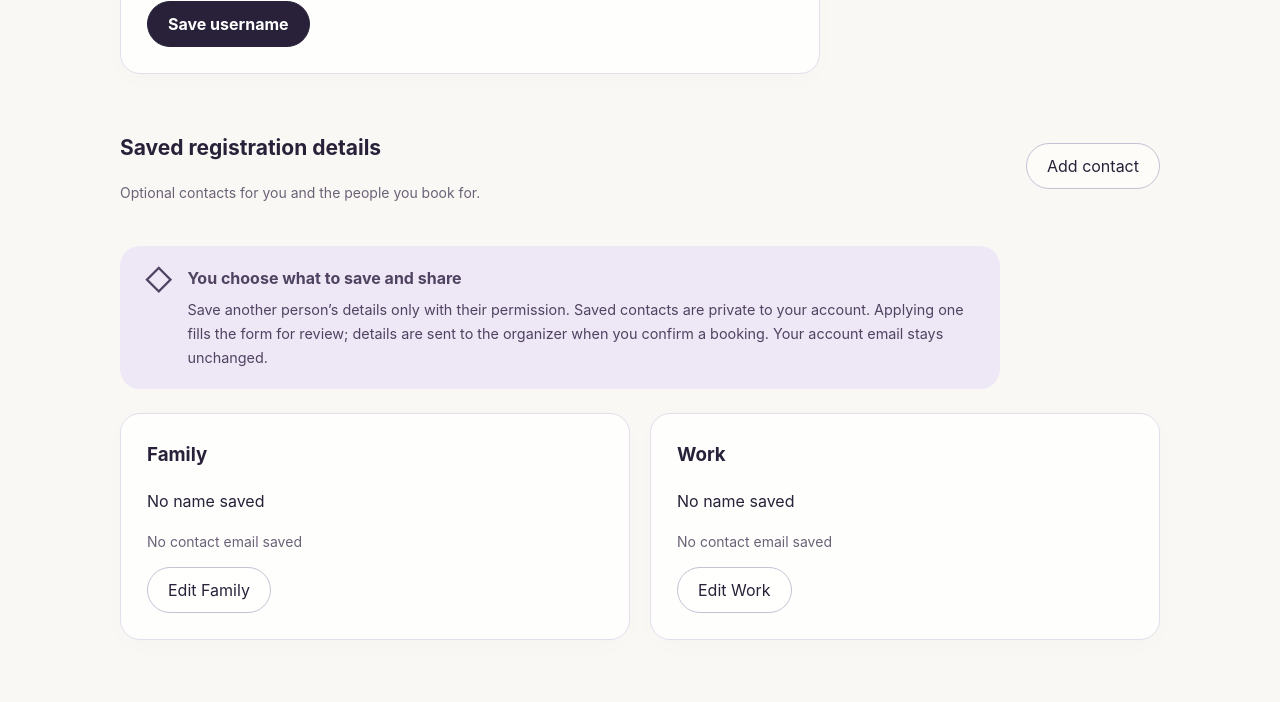
Test case: deletes only the selected version after confirmation
(page scrolled)
Step 1. Click the button "Edit Family" → (209, 590), box [147,567,271,613]
(page scrolled)
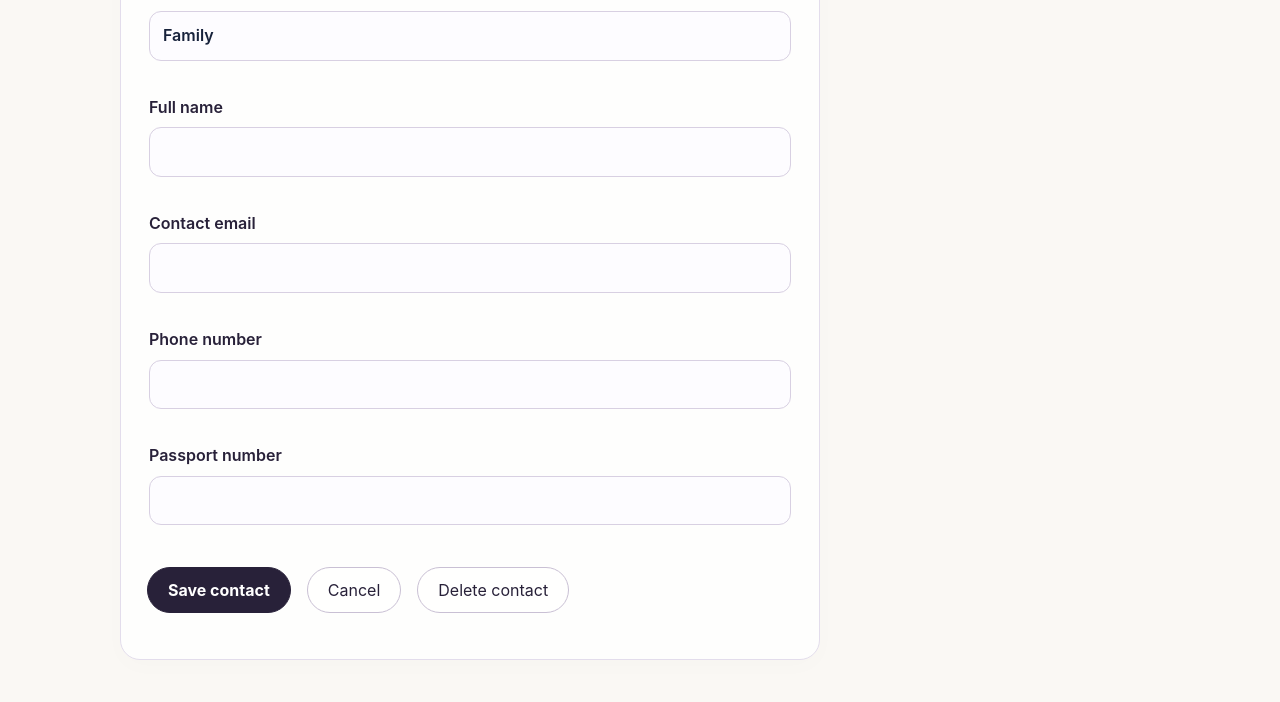
Step 2. Click the button "Delete contact" → (493, 590), box [417,567,569,613]
(page scrolled)
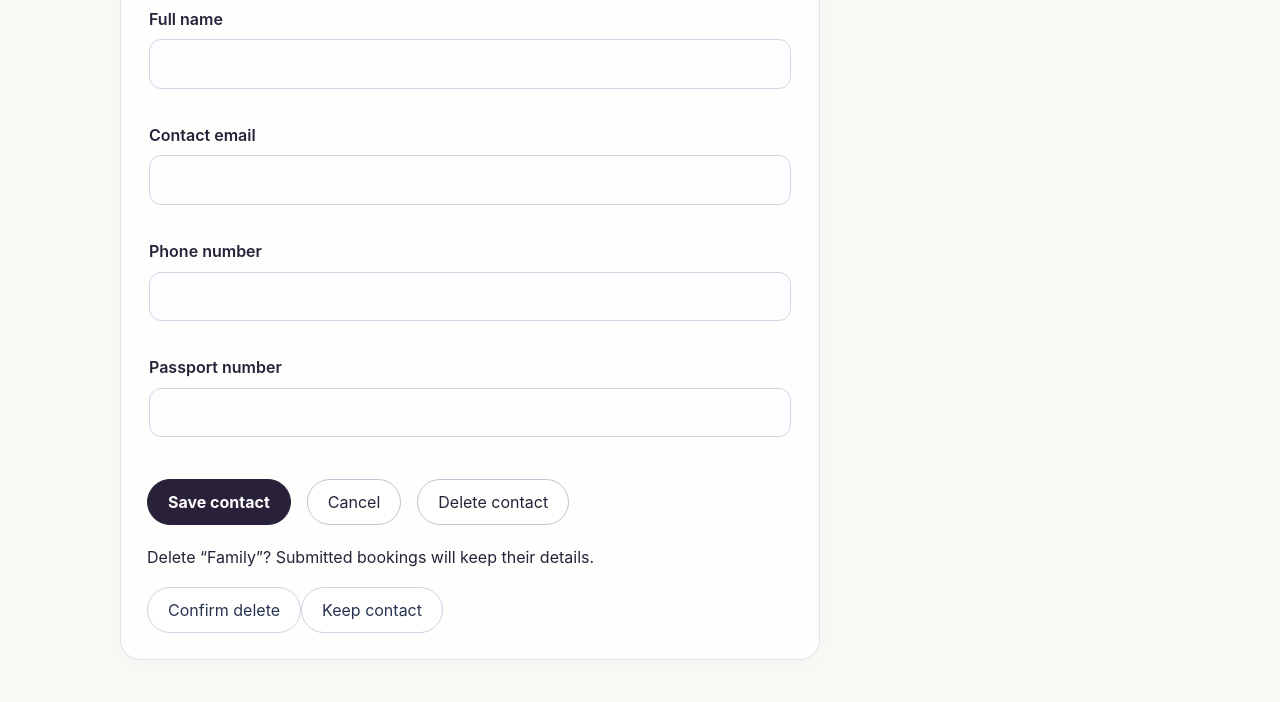
Step 3. Click the button "Confirm delete" → (224, 610), box [147,587,301,633]
(page scrolled)
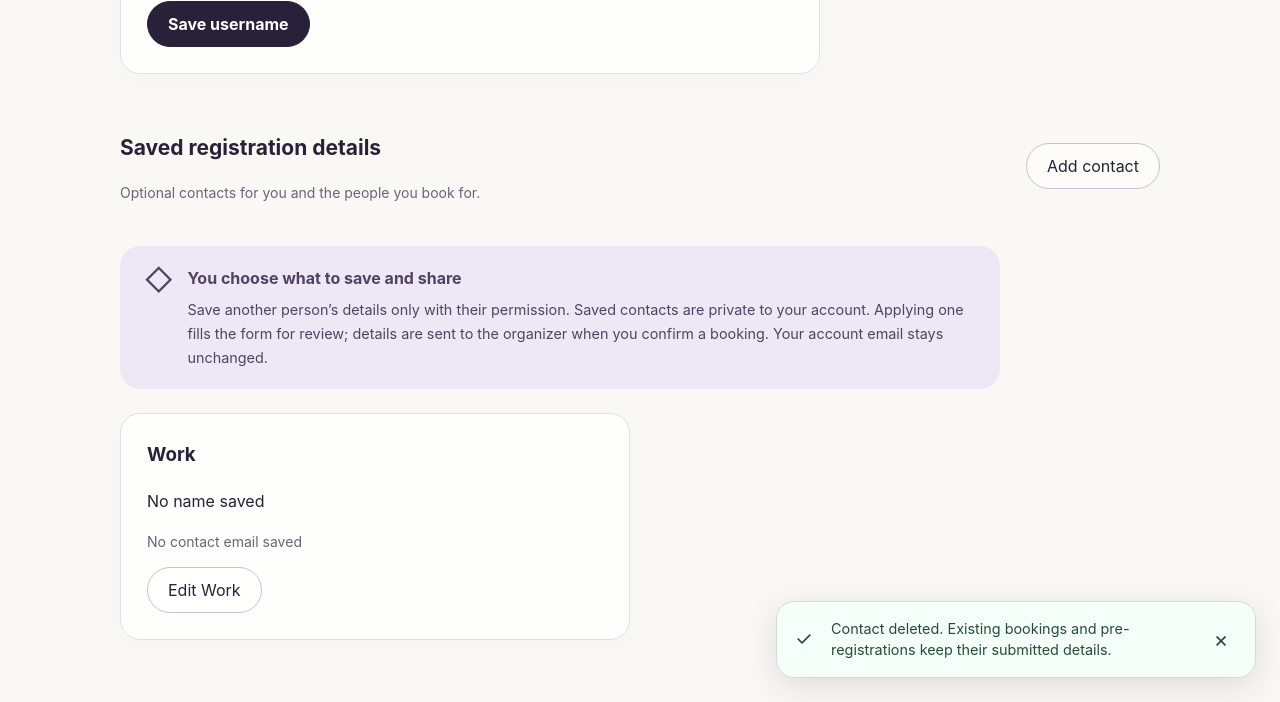
Expected: the button "Edit Work" is shown, [147,567,262,613]
Expected: the text "Contact deleted" is shown, [831,620,1130,658]
